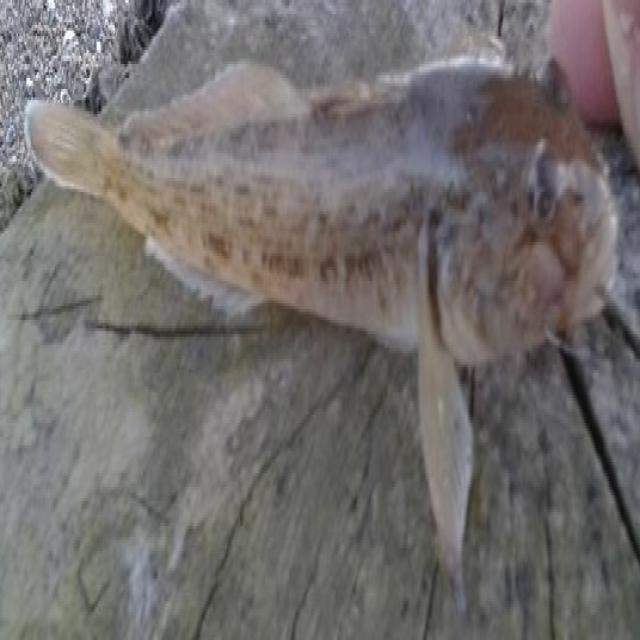Goby: (23, 7, 634, 510)
